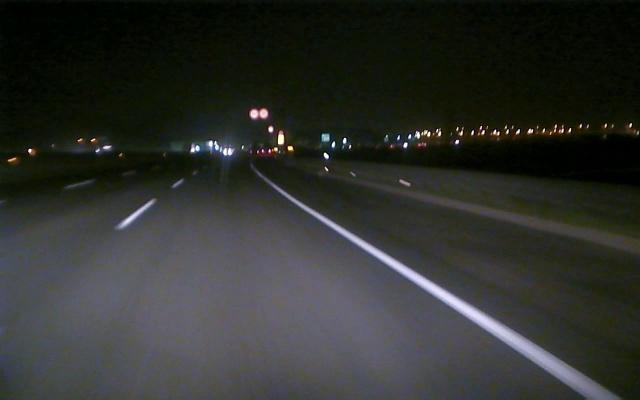lane: (267, 179, 620, 396), (116, 179, 183, 229)
